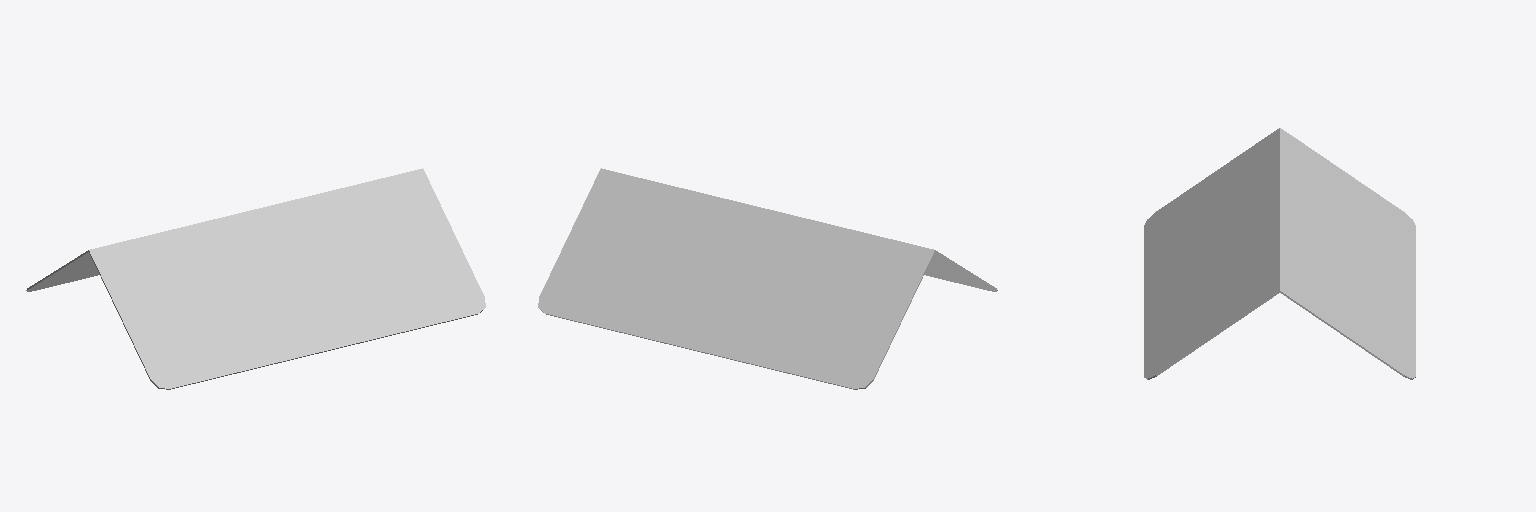
The model's file is building-type-h_roof.obj.
3 views of the same model, side by side, from view 1: azimuth 30°, elevation 25°; view 2: azimuth 150°, elevation 25°; view 3: azimuth 270°, elevation 25° (orthographic).
Parts seen in each view (by area): view 1: building-type-h.001; view 2: building-type-h.001; view 3: building-type-h.001.
Part boxes in pixels (x1,y1,x2,y2): building-type-h.001: (26,168,485,389); building-type-h.001: (538,168,997,389); building-type-h.001: (1144,128,1415,379).
Size of the model in its own units: 1.3 by 0.3483 by 0.916.